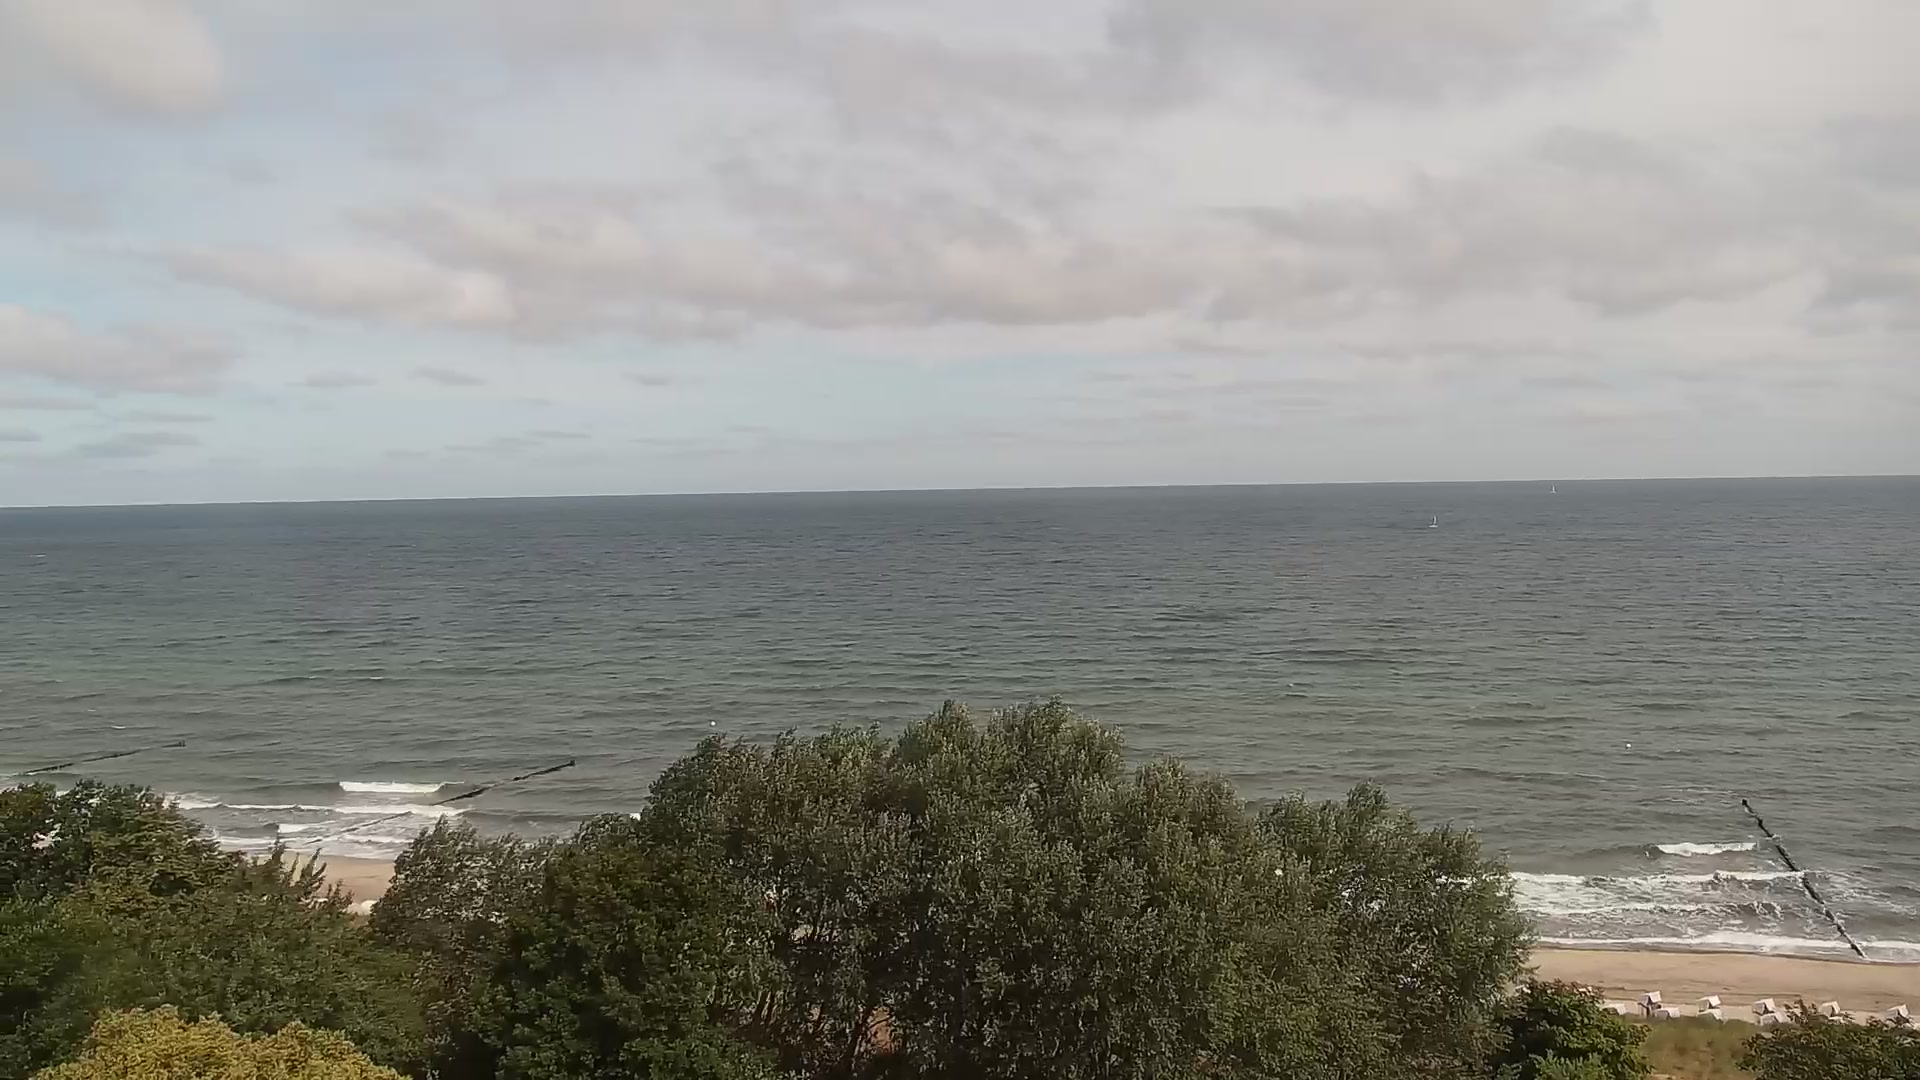sea: (1429, 514, 1439, 527), (1549, 483, 1556, 492)
